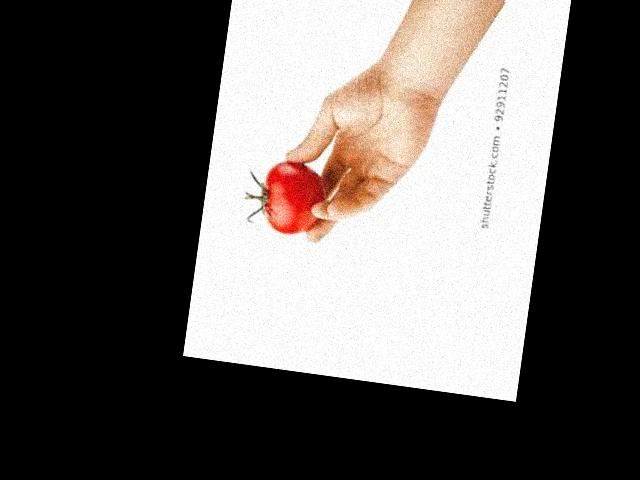tomato: (258, 157, 331, 238)
